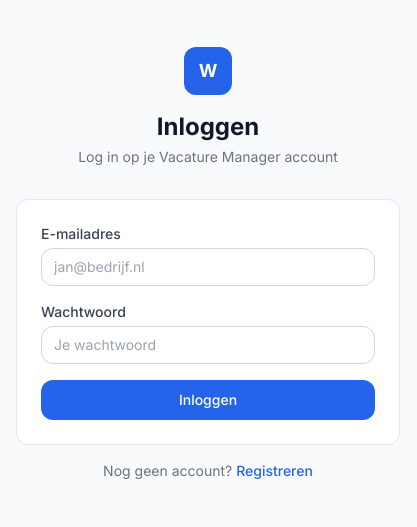
Test case: LoginPage › shows error message on login failure
In the field labelled "E-mailadres": (208, 267) [41,248,375,286], type "test@test.nl"
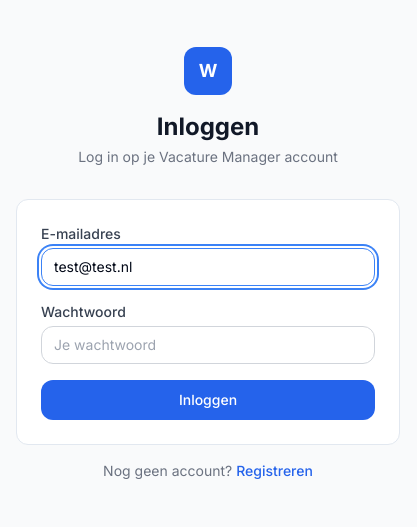
In the password field labelled "Wachtwoord": (208, 345) [41,326,375,364], type "wrong"
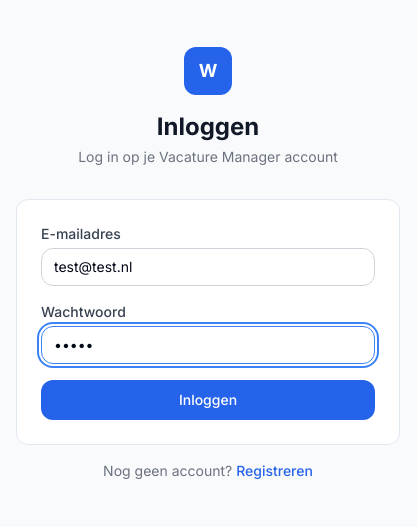
Click the button "Inloggen": (208, 400) [41,380,375,420]
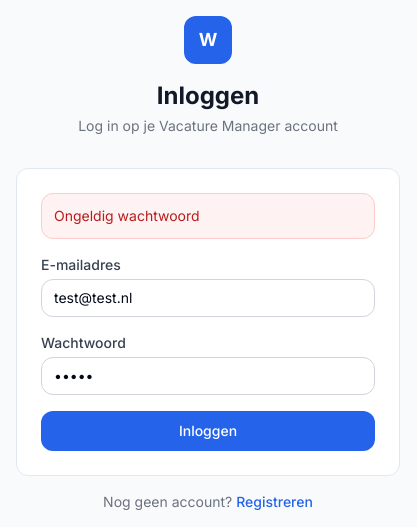
Result: the text "Ongeldig wachtwoord" is shown at [54,207,200,224]
